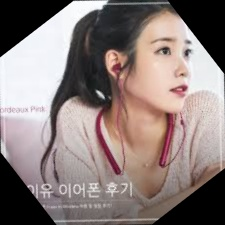earphone: (89, 38, 141, 92)
